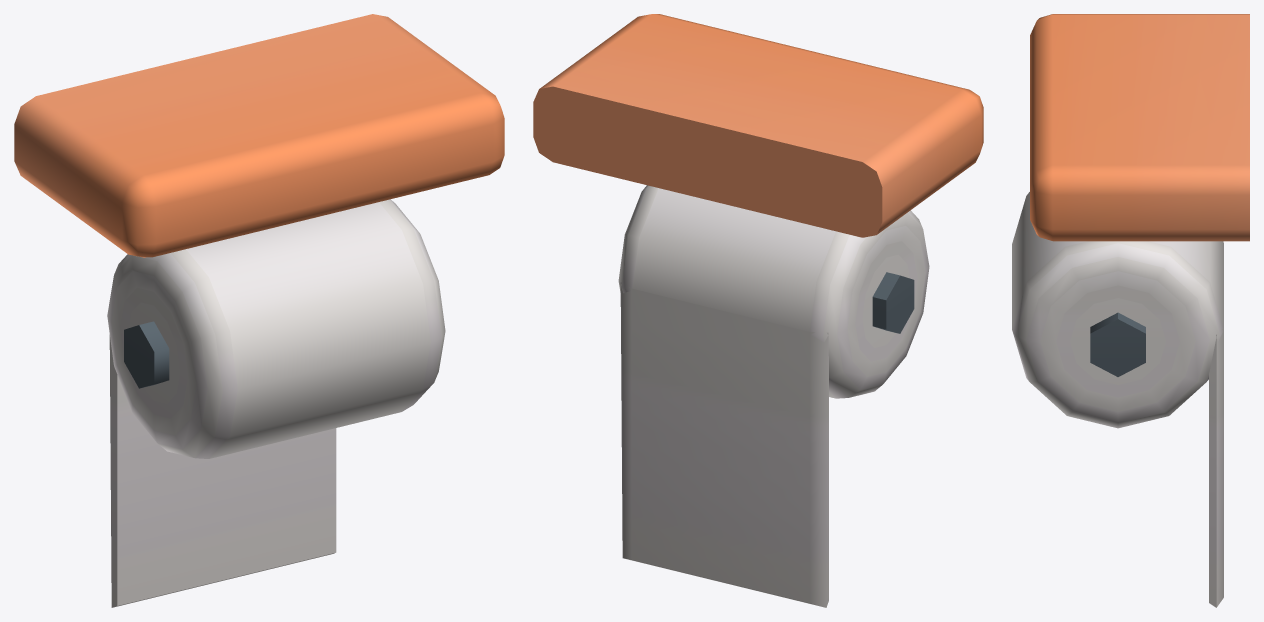
File: Toilet_paper_02.glb
The picture shows the model from 3 angles, left to right: view 1: azimuth 30°, elevation 25°; view 2: azimuth 150°, elevation 25°; view 3: azimuth 270°, elevation 25°; orthographic projection. The views are drawn at different scales.
Parts seen in each view (by area): view 1: Toilet_paper_02; view 2: Toilet_paper_02; view 3: Toilet_paper_02.
Part boxes in pixels (x1=…): Toilet_paper_02: x1=14, y1=14, x2=504, y2=607; Toilet_paper_02: x1=533, y1=14, x2=983, y2=607; Toilet_paper_02: x1=1012, y1=14, x2=1249, y2=607.
Size of the model in its own units: 0.2649 by 0.3414 by 0.157.
1 material, 1 textured.
